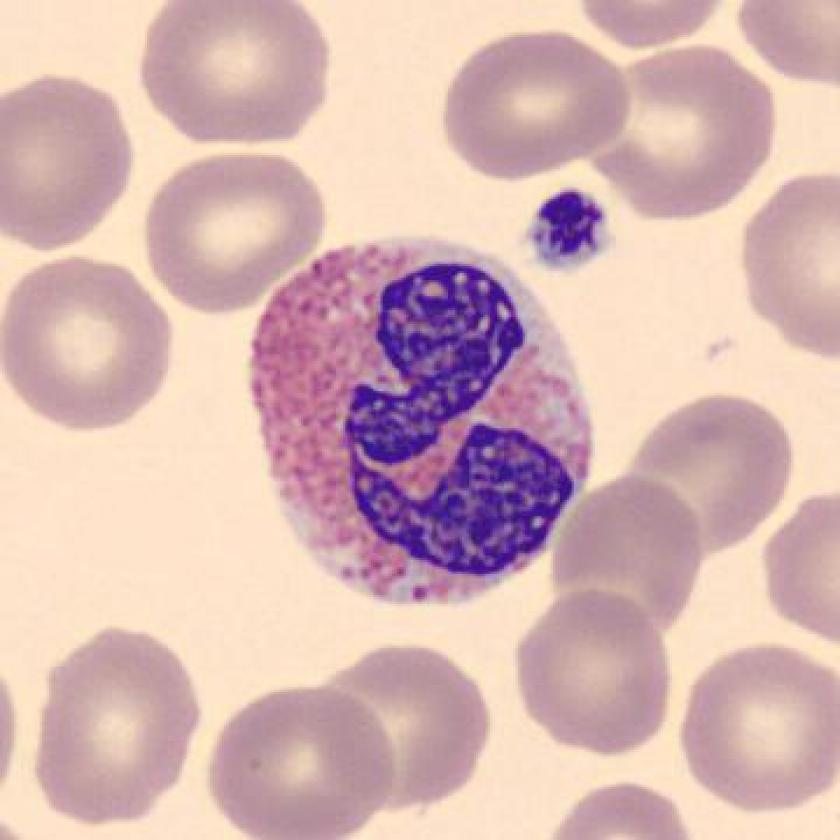eosinophil: (237, 226, 610, 621)
